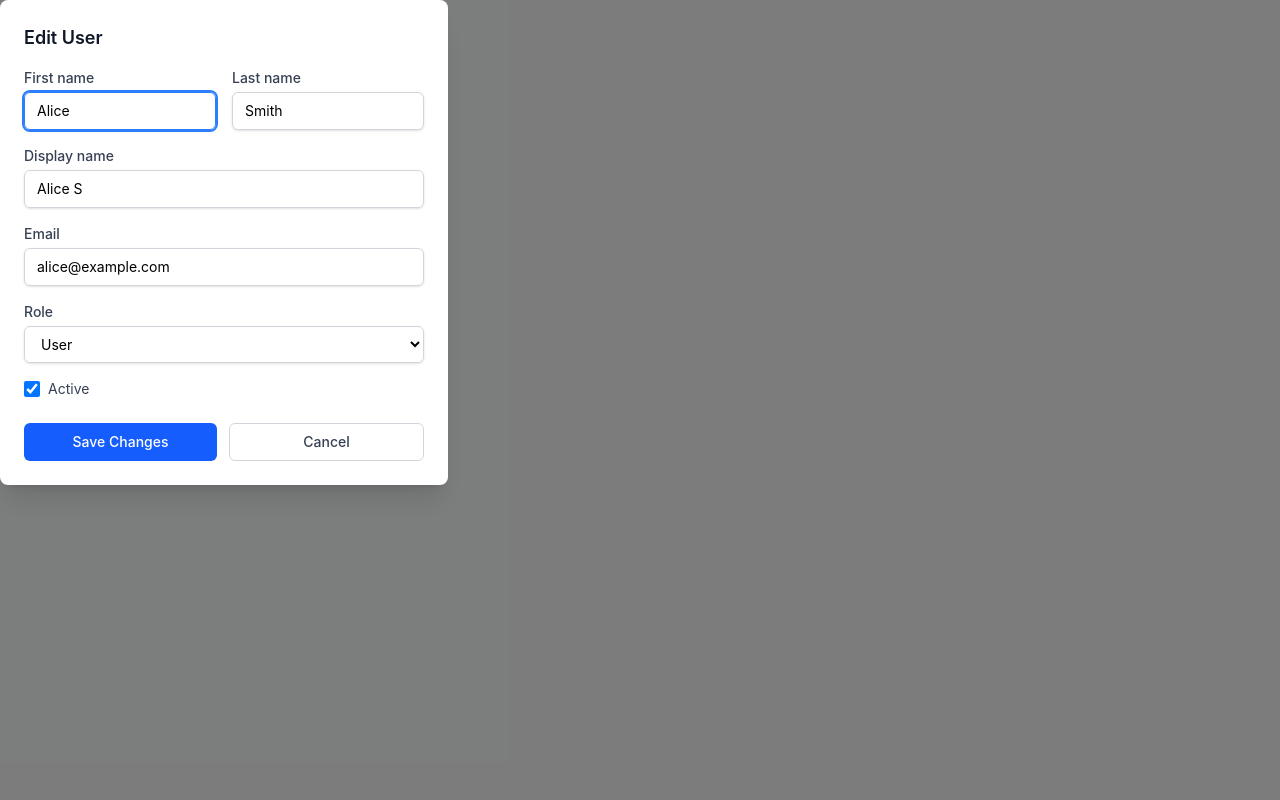
Scenario: EditUserModal › maps server field errors to form fields
Click the button "Save Changes" at {"x": 120, "y": 442}, box left=24, top=423, right=217, bottom=461
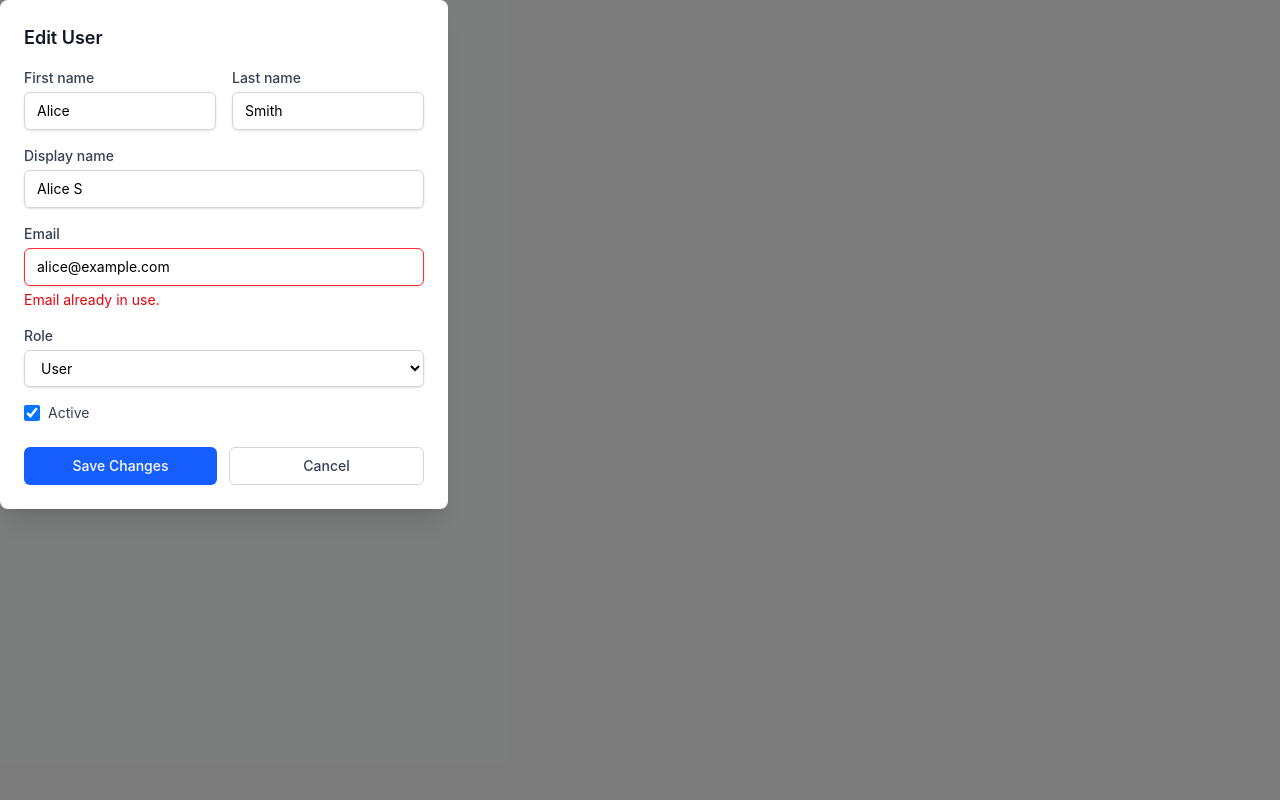
Now the text "Email already in use." is shown, box left=24, top=291, right=160, bottom=308
